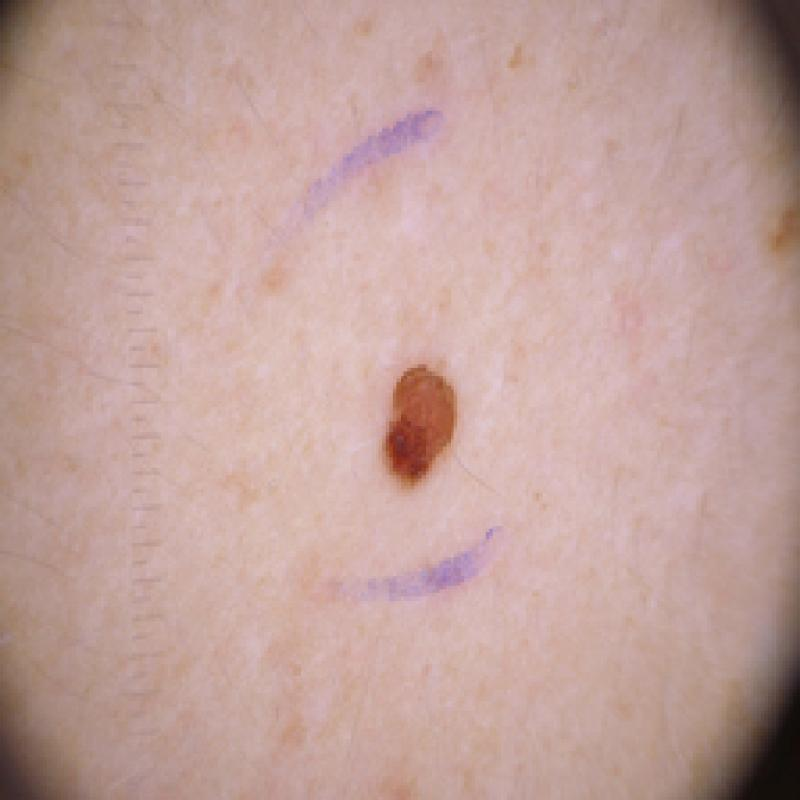benign: (346, 330, 472, 515)
